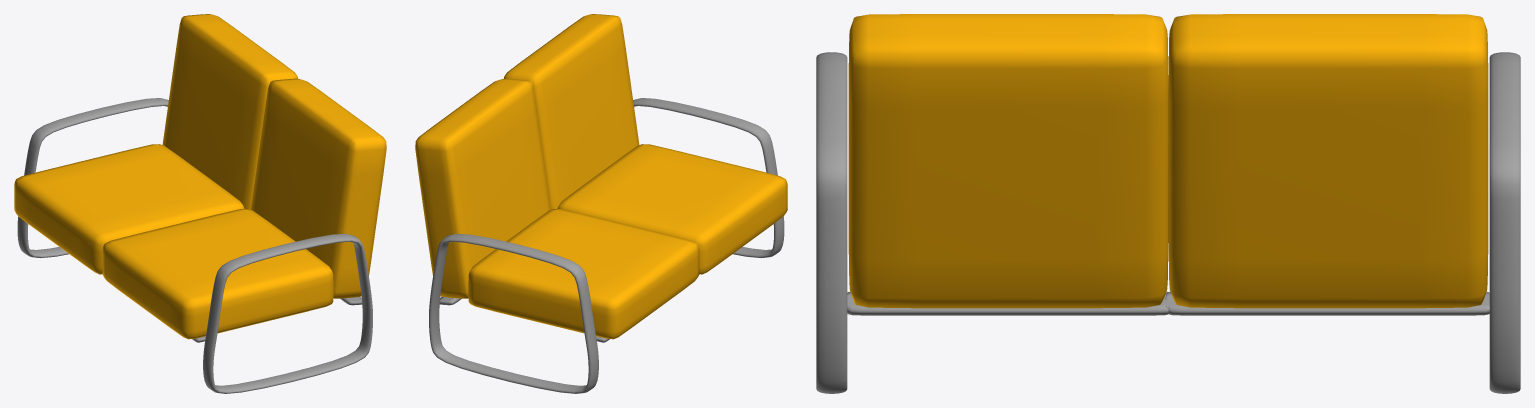
File: Double Seat02.fbx
3 renders of one model, left to right at view 1: azimuth 30°, elevation 25°; view 2: azimuth 150°, elevation 25°; view 3: azimuth 270°, elevation 25°, orthographic. The views are drawn at different scales.
Visible parts, largest first — view 1: Double Seat02; view 2: Double Seat02; view 3: Double Seat02.
Part boxes in pixels (bbox=[...]): Double Seat02: bbox=[14, 14, 386, 393]; Double Seat02: bbox=[415, 14, 787, 393]; Double Seat02: bbox=[816, 14, 1520, 393].
Size of the model in its own units: 0.5999 by 0.9903 by 0.6111.
